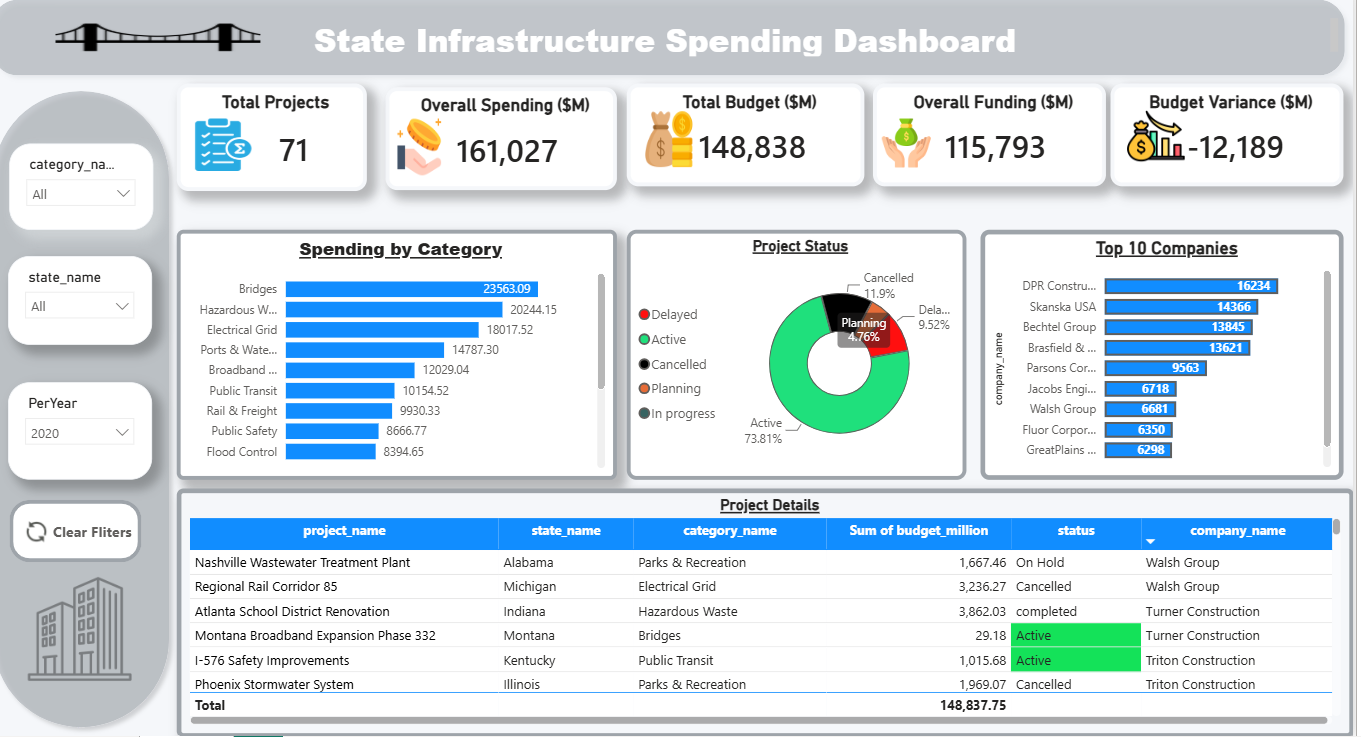

This screenshot's page, from the dashboard's own definition file:
{"tool":"powerbi","page":{"name":"Page 1","canvas":[1407,766],"ordinal":0},"visuals":[{"type":"shape","box":[1.3,94.2,198.8,671.4],"z":0},{"type":"barChart","title":"Spending by Category","fields":{"Y":["Sum(projects_stagging.actual_cost_milion)"],"Category":["categories_stagging.category_name"]},"box":[198.9,245.2,451.8,256.7],"z":1000},{"type":"slicer","fields":{"Values":["categories_stagging.category_name"]},"box":[27,156.6,147.6,88.6],"z":2000},{"type":"tableEx","title":"Project Details","fields":{"Values":["projects_stagging.project_name","states_stagging.state_name","categories_stagging.category_name","Sum(projects_stagging.budget_million)","projects_stagging.status","contractors_stagging.company_name"]},"box":[198.8,511.3,1208.4,255.6],"z":3000},{"type":"shape","box":[0,0,1407.3,95.5],"z":4000},{"type":"slicer","fields":{"Values":["states_stagging.state_name"]},"box":[25.7,272.1,147.6,91.1],"z":5000},{"type":"slicer","fields":{"Values":["projects_stagging.PerYear"]},"box":[25.7,401.7,147.6,100.1],"z":6000},{"type":"donutChart","title":"Project Status","fields":{"Y":["projects_stagging.delayed_Status","projects_stagging.active_Status","projects_stagging.cancelled_Status","projects_stagging.Planning_Status","projects_stagging.in_progress_Status"]},"box":[661,245.3,348.6,256.9],"z":7000},{"type":"clusteredBarChart","title":"Top 10 Companies","fields":{"Category":["contractors_stagging.company_name"],"Y":["Sum(projects_stagging.actual_cost_milion)"]},"box":[1023.8,245.3,373.1,256.9],"z":8000},{"type":"actionButton","box":[27,522.4,136.1,64.2],"z":9000},{"type":"cardVisual","title":"Overall Spending ($M)","fields":{"Data":["Sum(projects_stagging.actual_cost_milion)"]},"box":[413.1,99.4,237.6,105.9],"z":10000},{"type":"cardVisual","title":"Total Budget ($M)","fields":{"Data":["Sum(projects_stagging.budget_million)"]},"box":[661,95.5,244,105.9],"z":11000},{"type":"cardVisual","title":"Overall  Funding ($M)","fields":{"Data":["Sum(funding_sources_stagging.amount_million)"]},"box":[914.1,95.5,238.8,105.9],"z":12000},{"type":"cardVisual","title":"Budget Variance ($M)","fields":{"Data":["projects_stagging.Cost_Over_run"]},"box":[1158.1,95.5,238.8,105.9],"z":13000},{"type":"image","box":[679.1,118.8,50.4,65.8],"z":14000},{"type":"image","box":[923.1,117.5,50.4,76.2],"z":15000},{"type":"image","box":[1173.6,118.8,62,59.4],"z":16000},{"type":"image","box":[424.8,130.4,46.5,58.1],"z":17000},{"type":"cardVisual","title":"Total Projects","fields":{"Data":["CountNonNull(projects_stagging.project_id)"]},"box":[198.9,95,195.1,110.4],"z":18000},{"type":"image","box":[207.9,126.5,77.5,62],"z":19000},{"type":"image","box":[32.3,600.3,134.3,108.4],"z":20000},{"type":"image","box":[74.9,11.6,210.4,72.3],"z":20500},{"type":"textbox","box":[11.6,23.2,1385.3,49.1],"z":21000}]}

Visuals, with their boxes in screenshot pixels (x1, y1, x2, y2), scaled from the page's 1407x766 canvas onto the 1361x737 screenshot:
shape: (x1=1, y1=91, x2=194, y2=736)
"Spending by Category" barChart: (x1=192, y1=236, x2=629, y2=483)
slicer - categories_stagging.category_name: (x1=26, y1=151, x2=169, y2=236)
"Project Details" tableEx: (x1=192, y1=492, x2=1360, y2=736)
shape: (x1=0, y1=0, x2=1360, y2=92)
slicer - states_stagging.state_name: (x1=25, y1=262, x2=168, y2=349)
slicer - projects_stagging.PerYear: (x1=25, y1=386, x2=168, y2=483)
"Project Status" donutChart: (x1=639, y1=236, x2=977, y2=483)
"Top 10 Companies" clusteredBarChart: (x1=990, y1=236, x2=1351, y2=483)
actionButton: (x1=26, y1=503, x2=158, y2=564)
"Overall Spending ($M)" cardVisual: (x1=400, y1=96, x2=629, y2=198)
"Total Budget ($M)" cardVisual: (x1=639, y1=92, x2=875, y2=194)
"Overall  Funding ($M)" cardVisual: (x1=884, y1=92, x2=1115, y2=194)
"Budget Variance ($M)" cardVisual: (x1=1120, y1=92, x2=1351, y2=194)
image: (x1=657, y1=114, x2=706, y2=178)
image: (x1=893, y1=113, x2=942, y2=186)
image: (x1=1135, y1=114, x2=1195, y2=171)
image: (x1=411, y1=125, x2=456, y2=181)
"Total Projects" cardVisual: (x1=192, y1=91, x2=381, y2=198)
image: (x1=201, y1=122, x2=276, y2=181)
image: (x1=31, y1=578, x2=161, y2=682)
image: (x1=72, y1=11, x2=276, y2=81)
textbox: (x1=11, y1=22, x2=1351, y2=70)
